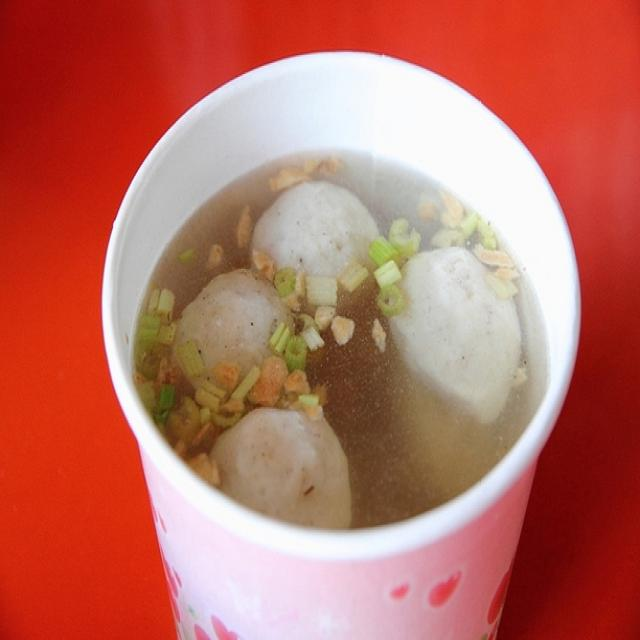熟制海鲜: (121, 51, 571, 562)
